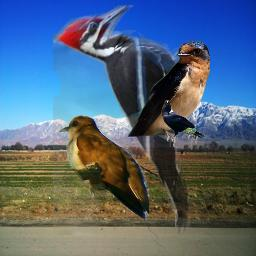Crow: (161, 100, 206, 140)
Cuckoo: (59, 115, 149, 221)
Swallow: (127, 40, 210, 147)
Woodpecker: (53, 5, 210, 235)
